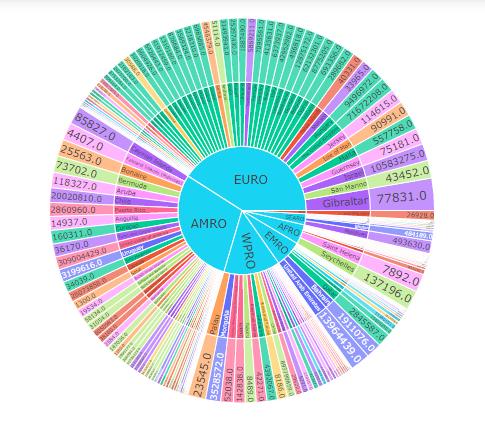

What the dashboard file says about the page in this screenshot:
{"tool":"tableau","page":{"name":"Top cases by region","canvas":[650,860],"ordinal":10},"visuals":[{"type":"worksheet","title":"Top Cases by Region","mark":"Automatic","rows":["Cases - cumulative total"],"cols":["WHO Region","Name"],"box":[8,8,634,844]}]}

Visuals, with their boxes on the page's 650x860 design canvas (x1, y1, x2, y2). These are canvas units, not pixel positions in the 485x425 screenshot, which may show the page scaled, cropped or inside an application window:
"Top Cases by Region" worksheet: [8,8,642,852]
